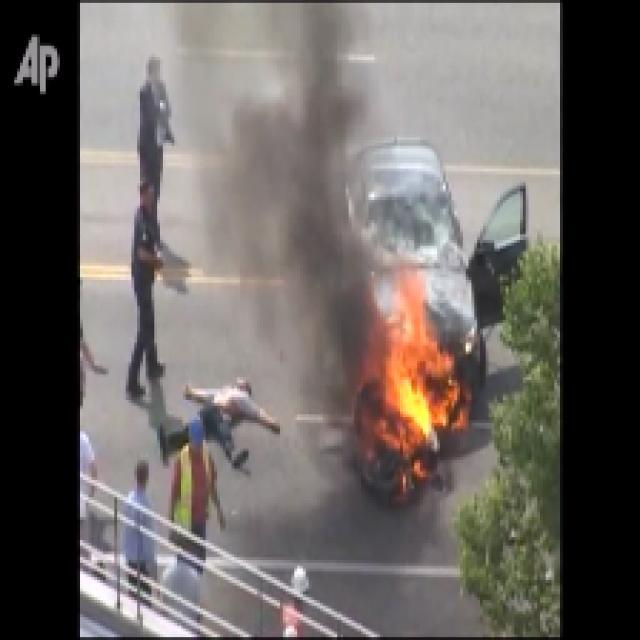Fire: (359, 260, 472, 483)
Smoke: (228, 3, 380, 383)
